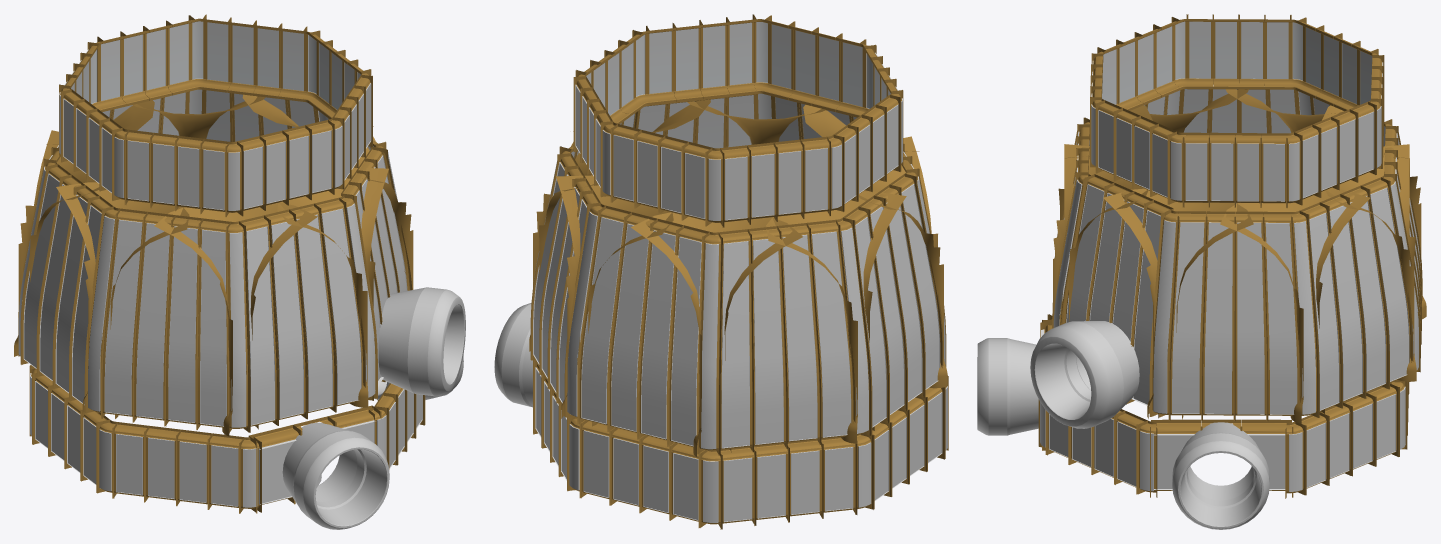
File: TowerInterior6.fbx
The picture shows the model from 3 angles, left to right: view 1: azimuth 30°, elevation 25°; view 2: azimuth 150°, elevation 25°; view 3: azimuth 270°, elevation 25°; orthographic projection. The views are drawn at different scales.
Visible parts, largest first — view 1: Cube.042; view 2: Cube.042; view 3: Cube.042.
Boxes of the visible parts, bbox=[...] form: Cube.042: bbox=[14, 14, 465, 529]; Cube.042: bbox=[494, 14, 948, 529]; Cube.042: bbox=[977, 14, 1426, 529].
Bounding box in the file's own units: 10747 × 9546 × 11013.
